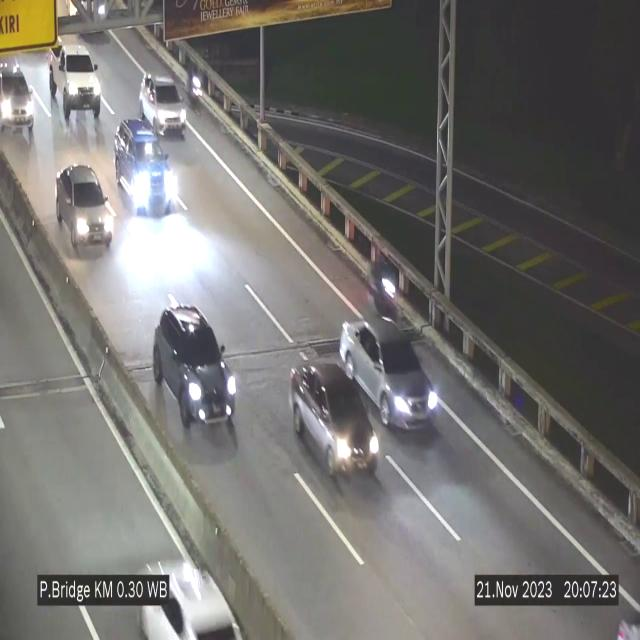Car: (289, 352, 379, 496), (340, 316, 442, 436), (154, 302, 234, 438), (113, 117, 177, 223), (56, 163, 113, 252), (46, 39, 104, 121), (139, 72, 186, 138), (0, 47, 31, 144)
Motorcycle: (368, 251, 398, 321), (187, 58, 204, 118)
